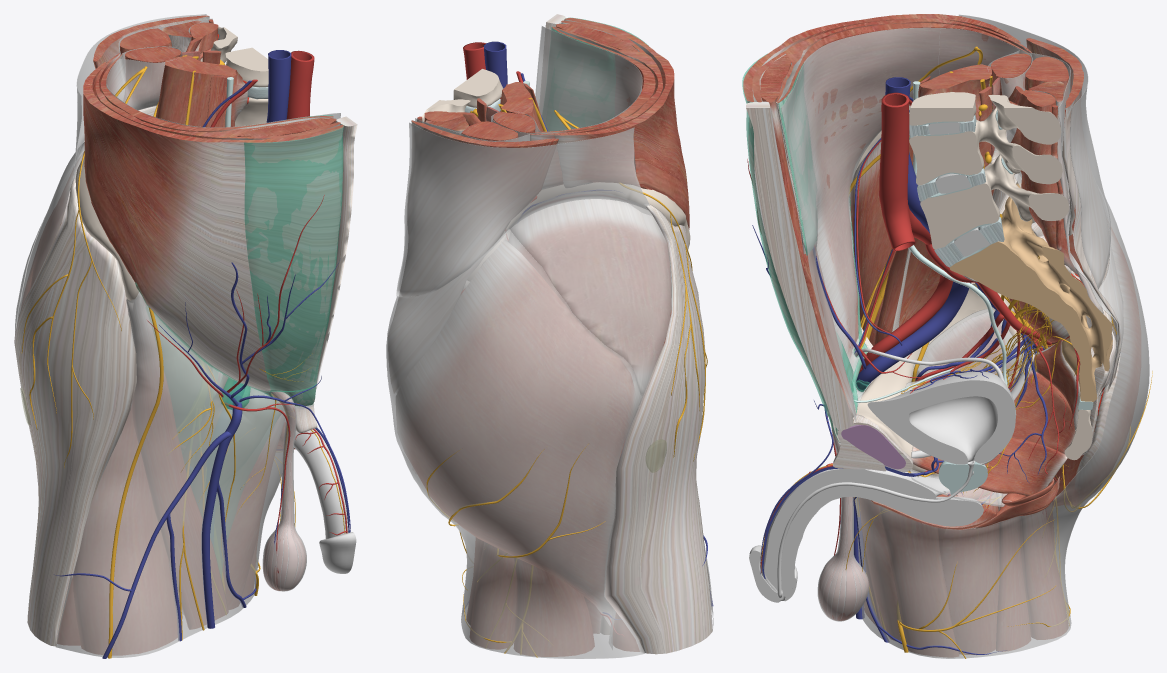
The model's file is open3dmodel-inguinal-canal.glb.
The picture shows the model from 3 angles, left to right: view 1: azimuth 30°, elevation 25°; view 2: azimuth 150°, elevation 25°; view 3: azimuth 270°, elevation 25°; orthographic projection. The views are drawn at different scales.
Visible parts, largest first — view 1: External abdominal oblique muscle.r, Fascia lata.r, Iliotibial tract.r, Rectus sheath anterior wall overlay.r, Rectus femoris muscle.r, Sartorius muscle.r, Femoral triangle overlay.r, External spermatic fascia.r, Psoas major.r1, Adductor longus muscle.r, Cremaster muscle and fascia.r, Corpus cavernosum of penis (+34 smaller); view 2: Fascia lata.r1, Gluteus maximus muscle.r, Iliotibial tract.r, Deep membranous fascia of subcutaneous tissue (Scarpa's fasc, Latissimus dorsi.r, Gluteal aponeurosis.r, Gluteus medius muscle.r, Transversalis fascia.r, External abdominal oblique muscle.r, Biceps femoris, long head.r, Rectus sheath posterior wall overlay.r, External abdominal oblique muscle.r1 (+18 smaller); view 3: Fascia lata.r1, Transversalis fascia.r, Transversus abdominis muscle.r, Fascia lata.r, Sacrum, Urinary bladder, Linea alba, Latissimus dorsi.r, Gluteus maximus muscle.r, Gracilis muscle.r, Adductor magnus.r, External iliac artery.r1 (+55 smaller).
Boxes of the visible parts, left/top/right/bottom form: External abdominal oblique muscle.r: left=84, top=95, right=343, bottom=406; Fascia lata.r: left=55, top=292, right=314, bottom=657; Iliotibial tract.r: left=14, top=177, right=136, bottom=646; Rectus sheath anterior wall overlay.r: left=244, top=125, right=343, bottom=391; Rectus femoris muscle.r: left=73, top=407, right=177, bottom=655; Sartorius muscle.r: left=126, top=294, right=228, bottom=629; Femoral triangle overlay.r: left=146, top=306, right=282, bottom=577; External spermatic fascia.r: left=262, top=390, right=306, bottom=591; Psoas major.r1: left=156, top=55, right=247, bottom=127; Adductor longus muscle.r: left=223, top=412, right=284, bottom=609; Cremaster muscle and fascia.r: left=263, top=392, right=305, bottom=590; Corpus cavernosum of penis: left=285, top=420, right=348, bottom=538; Fascia lata.r1: left=386, top=229, right=644, bottom=658; Gluteus maximus muscle.r: left=396, top=240, right=636, bottom=625; Iliotibial tract.r: left=604, top=203, right=712, bottom=654; Deep membranous fascia of subcutaneous tissue (Scarpa's fasc: left=396, top=122, right=649, bottom=296; Latissimus dorsi.r: left=388, top=120, right=558, bottom=393; Gluteal aponeurosis.r: left=509, top=192, right=671, bottom=397; Gluteus medius muscle.r: left=508, top=199, right=671, bottom=407; Transversalis fascia.r: left=535, top=26, right=642, bottom=131; External abdominal oblique muscle.r: left=564, top=17, right=689, bottom=229; Biceps femoris, long head.r: left=514, top=558, right=594, bottom=656; Rectus sheath posterior wall overlay.r: left=542, top=27, right=615, bottom=131; External abdominal oblique muscle.r1: left=554, top=122, right=637, bottom=187; Fascia lata.r1: left=942, top=193, right=1149, bottom=658; Transversalis fascia.r: left=781, top=27, right=940, bottom=425; Transversus abdominis muscle.r: left=776, top=23, right=946, bottom=367; Fascia lata.r: left=838, top=440, right=959, bottom=658; Sacrum: left=950, top=183, right=1112, bottom=401; Urinary bladder: left=867, top=371, right=1015, bottom=464; Linea alba: left=746, top=101, right=853, bottom=430; Latissimus dorsi.r: left=1026, top=38, right=1123, bottom=392; Gluteus maximus muscle.r: left=1051, top=220, right=1140, bottom=506; Gracilis muscle.r: left=879, top=506, right=958, bottom=657; Adductor magnus.r: left=938, top=492, right=998, bottom=654; External iliac artery.r1: left=879, top=92, right=953, bottom=340.
Bounding box in the file's own units: 0.1804 × 0.3514 × 0.2252.
Materials: 28 (10 with a texture image).
